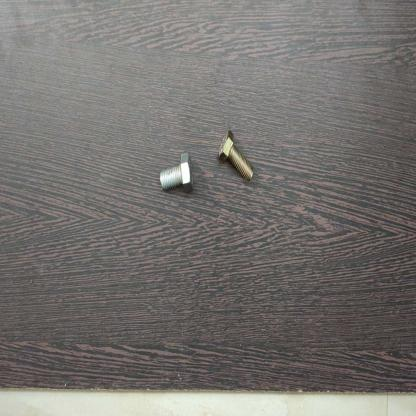Bolts: (216, 126, 258, 189), (154, 147, 198, 200)
